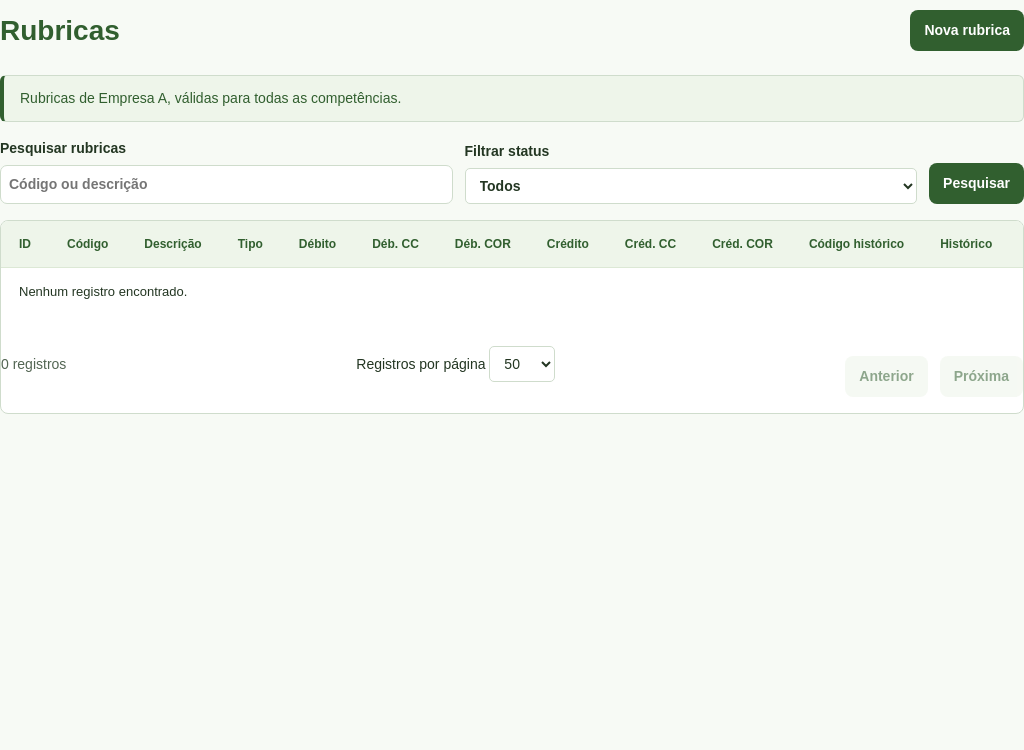
Test: creates an incomplete rubric with manual flags when no account exists
Expected: the text "Nenhum registro encontrado." is shown, [1,268,1023,316]
Click the button "Nova rubrica" at x=967, y=30, box [910,10,1023,51]
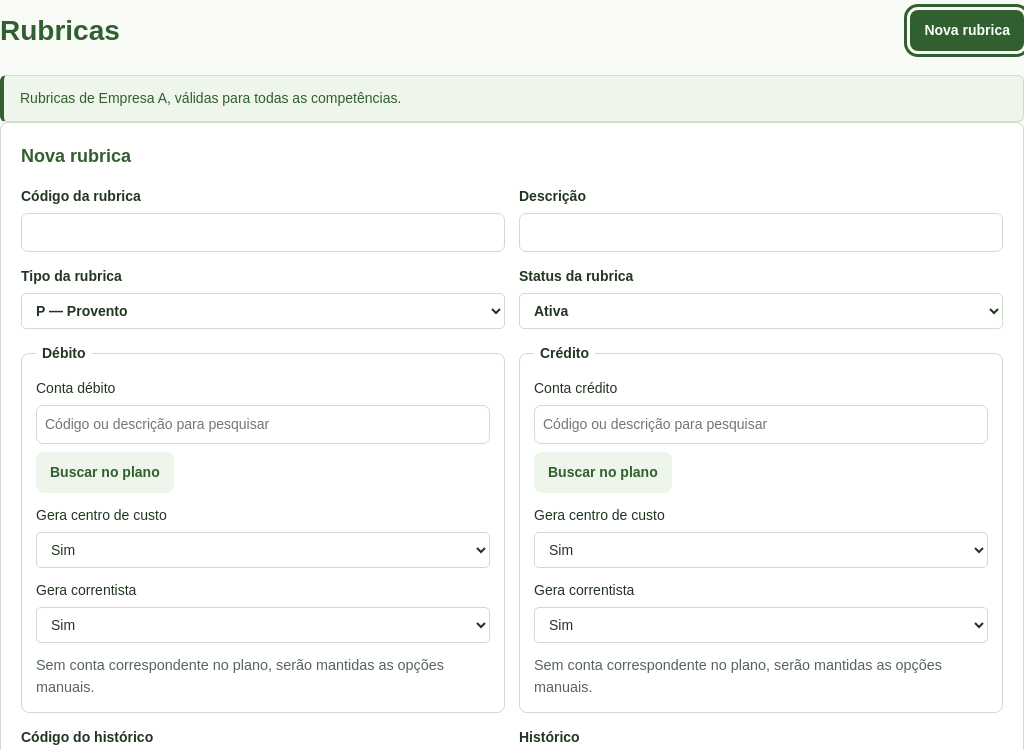
Type "FGTS" into the field labelled "Código da rubrica" at x=263, y=232, box [21,213,505,252]
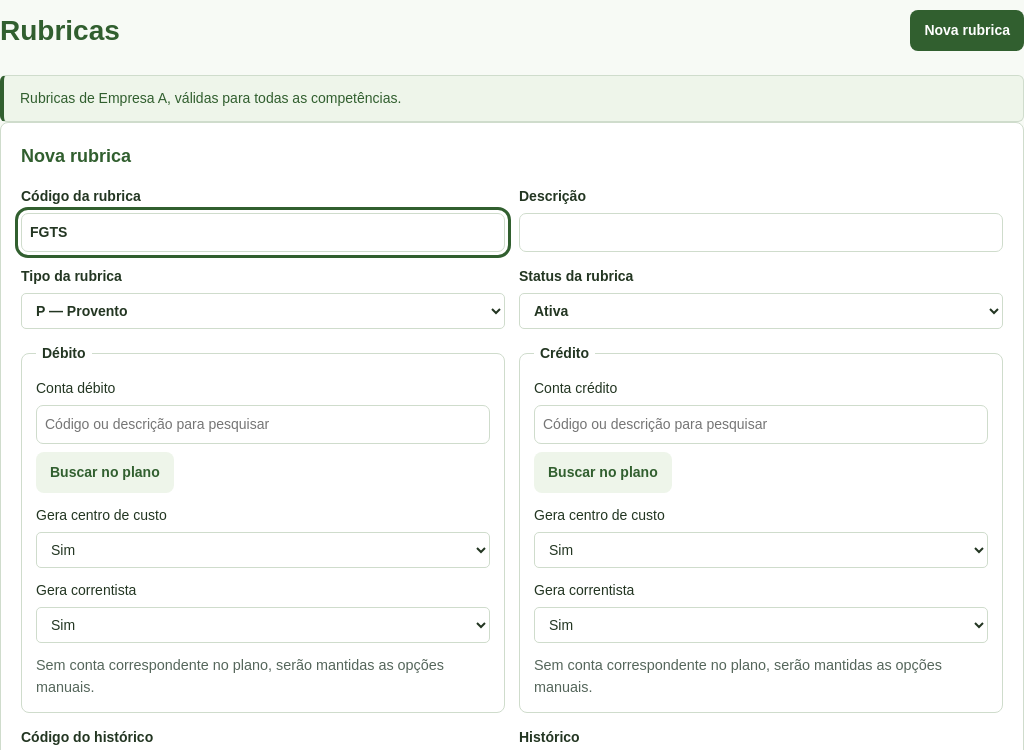
Type "Encargo" into the field labelled "Descrição" at x=761, y=232, box [519,213,1003,252]
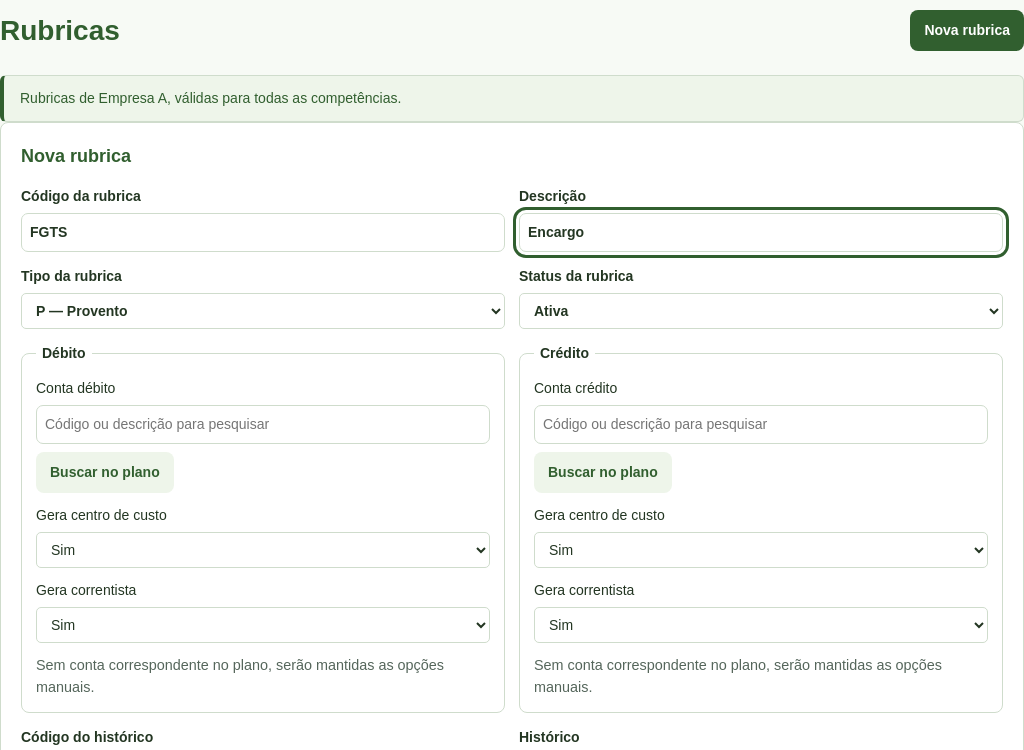
Type "999" into the field labelled "Conta débito" at x=263, y=424, box [36,405,490,444]
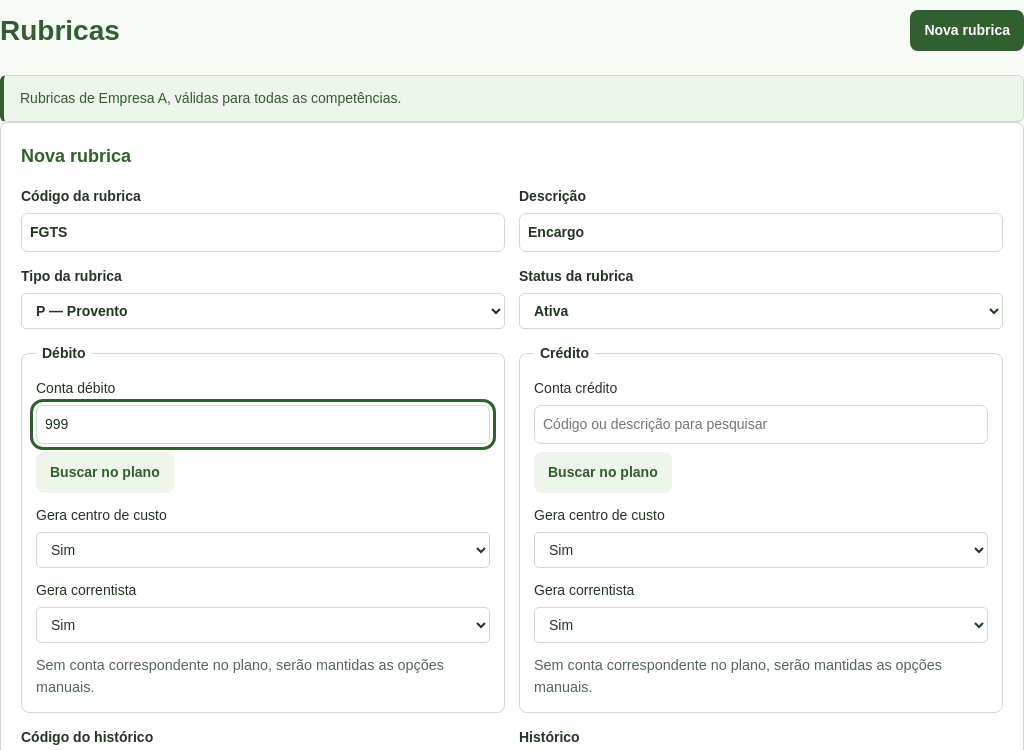
Select "Não" in the dropdown labelled "Gera centro de custo" below "Conta débito" at x=263, y=550, box [36,532,490,568]
(page scrolled)
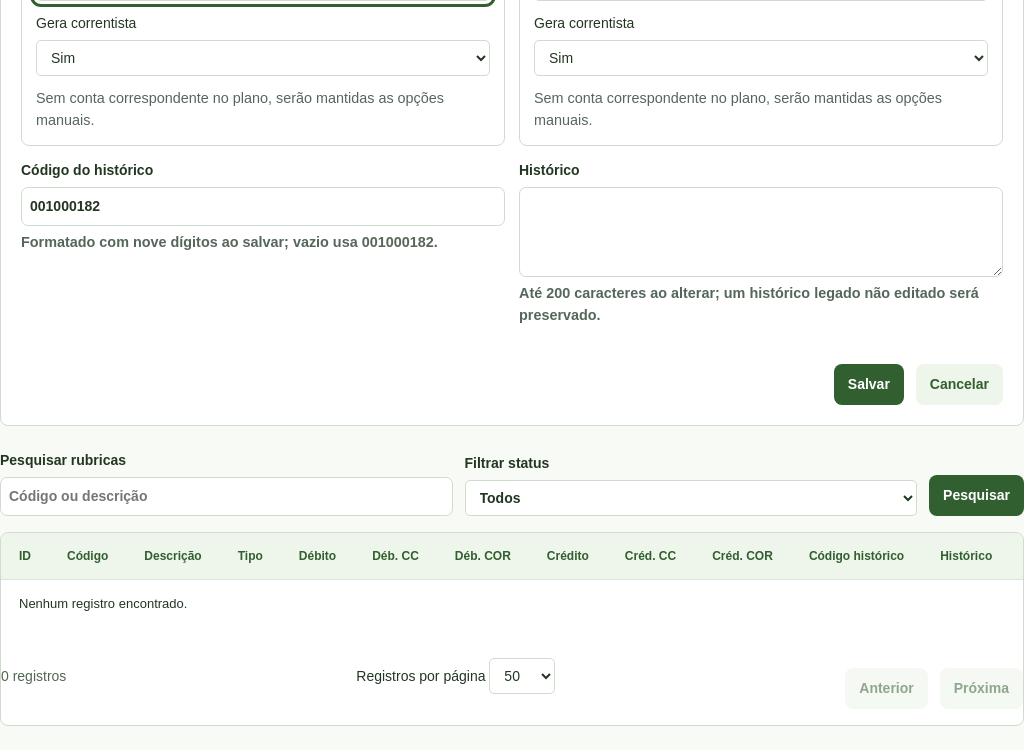
Click the button "Salvar" at x=869, y=385, box [834,364,904,405]
(page scrolled)
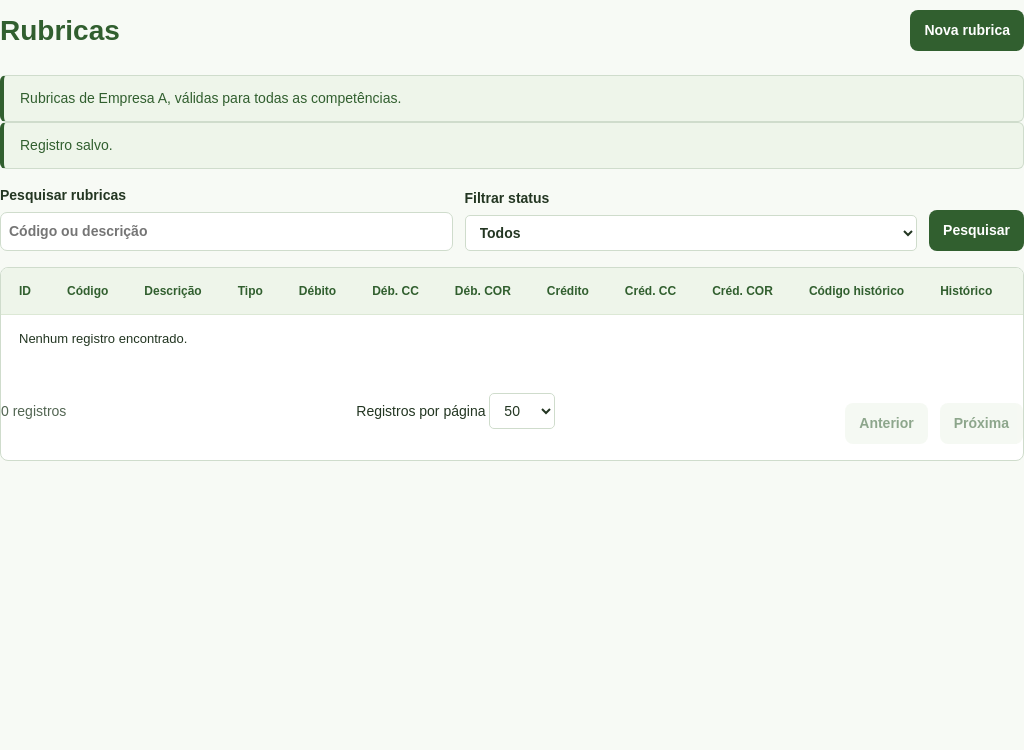
Expected: the text "Registro salvo." is shown, [0,122,1023,169]
